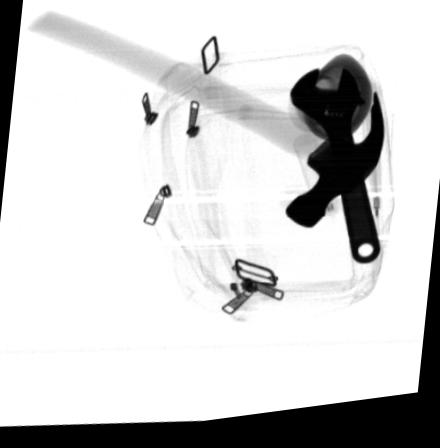Hammer: (25, 8, 385, 236)
Wrench: (290, 73, 381, 274)
